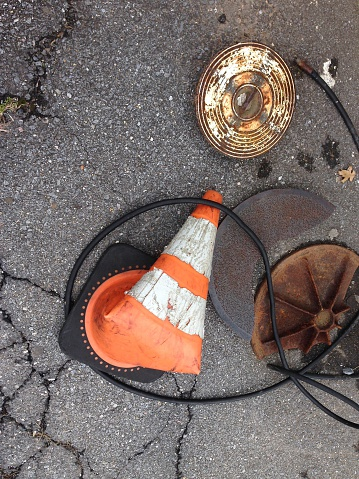trafficcone: (59, 187, 224, 382)
